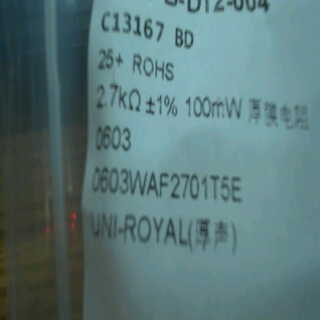2.7kR: (89, 78, 145, 115)
